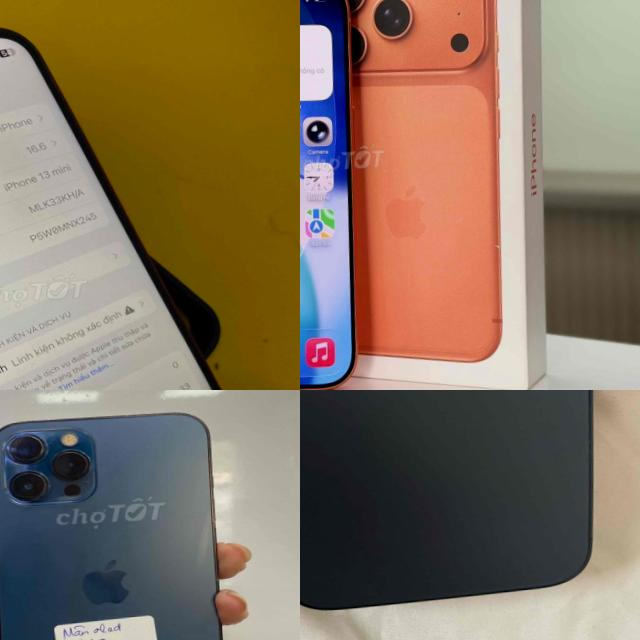gen_12_13: (0, 14, 236, 390), (0, 405, 248, 640)
gen_14: (300, 390, 624, 617)
gen_17: (300, 0, 365, 390)
